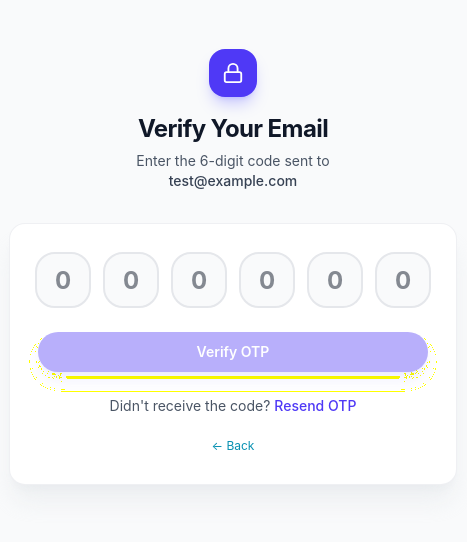
OTPVerificationPage › OTP Length Validation › should show error if OTP length is less than 6
Type "1" into the 1st field with placeholder "0" at (63, 280), box [35,252,91,308]
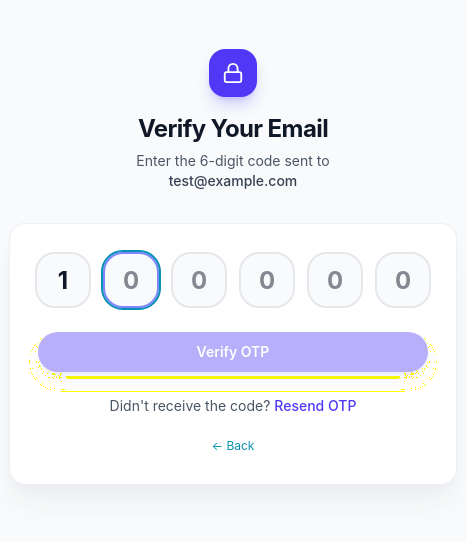
Type "2" into the 1st field with placeholder "0" at (131, 280), box [103,252,159,308]
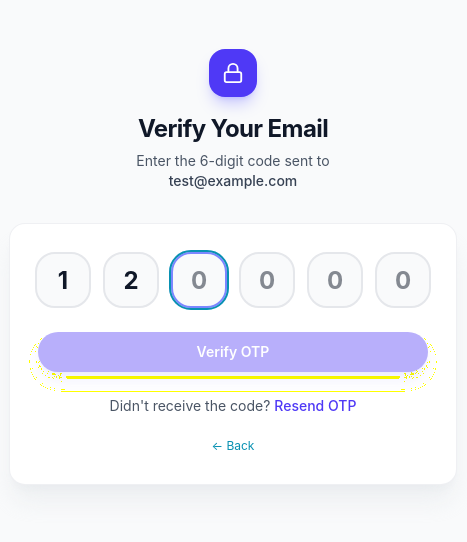
Type "3" into the 1st field with placeholder "0" at (199, 280), box [171,252,227,308]
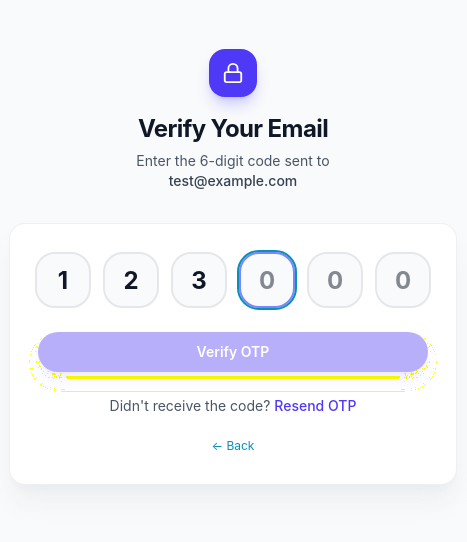
Submit the form "Verify OTP", box [38,252,428,372]
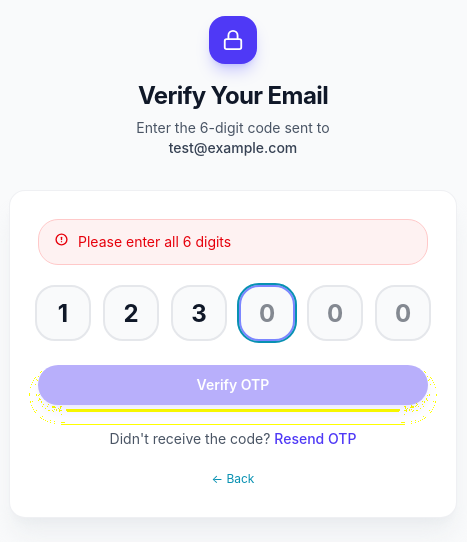
Check: the text "Please enter all 6 digits" is shown, box [78,232,231,252]
